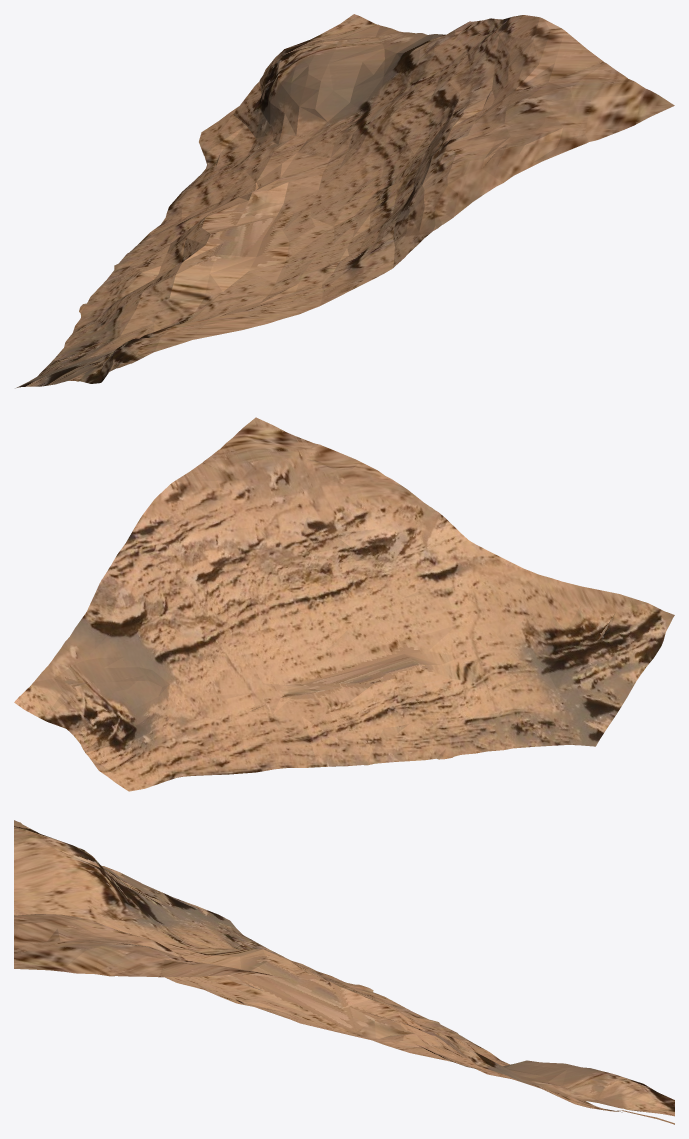
The picture shows the model from 3 angles, top to bottom: view 1: azimuth 30°, elevation 25°; view 2: azimuth 150°, elevation 25°; view 3: azimuth 270°, elevation 25°; orthographic projection. The views are drawn at different scales.
Bounding box in the file's own units: 1.04 × 0.4029 × 1.04.
Materials: 2 (2 with a texture image).
